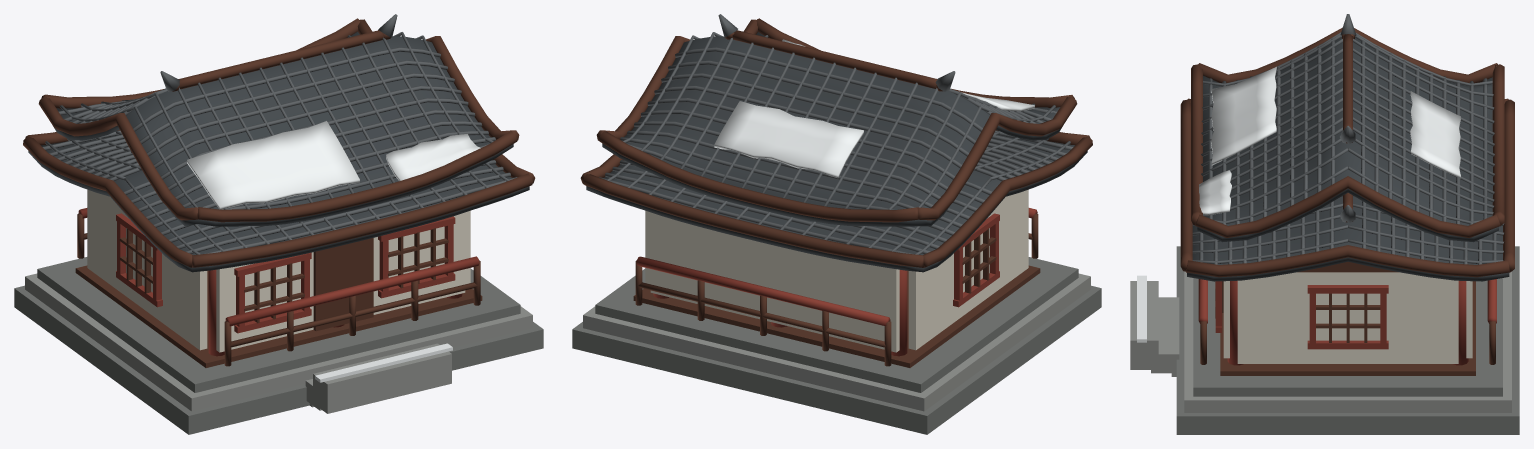
Rendered from projects.glb.
The picture shows the model from 3 angles, left to right: view 1: azimuth 30°, elevation 25°; view 2: azimuth 150°, elevation 25°; view 3: azimuth 270°, elevation 25°; orthographic projection.
Parts seen in each view (by area): view 1: projects_building, snow_projects_winter; view 2: projects_building, snow_projects_winter; view 3: projects_building, snow_projects_winter.
Part boxes in pixels (left/top/right/bottom): projects_building: left=14, top=14, right=543, bottom=434; snow_projects_winter: left=187, top=121, right=480, bottom=382; projects_building: left=572, top=14, right=1101, bottom=434; snow_projects_winter: left=714, top=39, right=1034, bottom=178; projects_building: left=1130, top=14, right=1519, bottom=434; snow_projects_winter: left=1137, top=66, right=1460, bottom=342.
Size of the model in its own units: 6.27 by 4.81 by 6.06.
